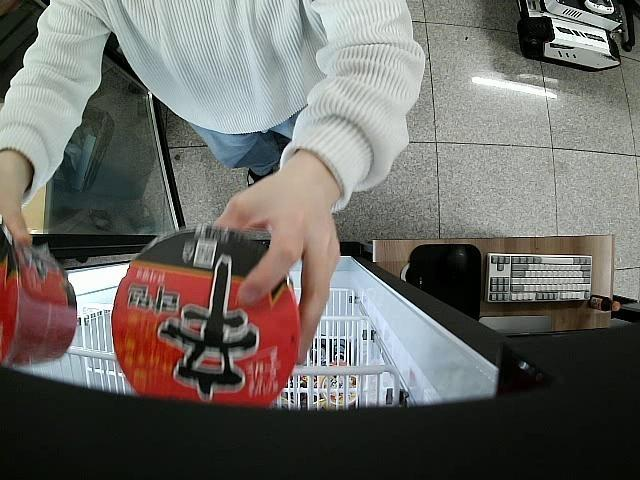01_ShinRamen_L: (112, 230, 300, 407), (0, 228, 78, 365)
